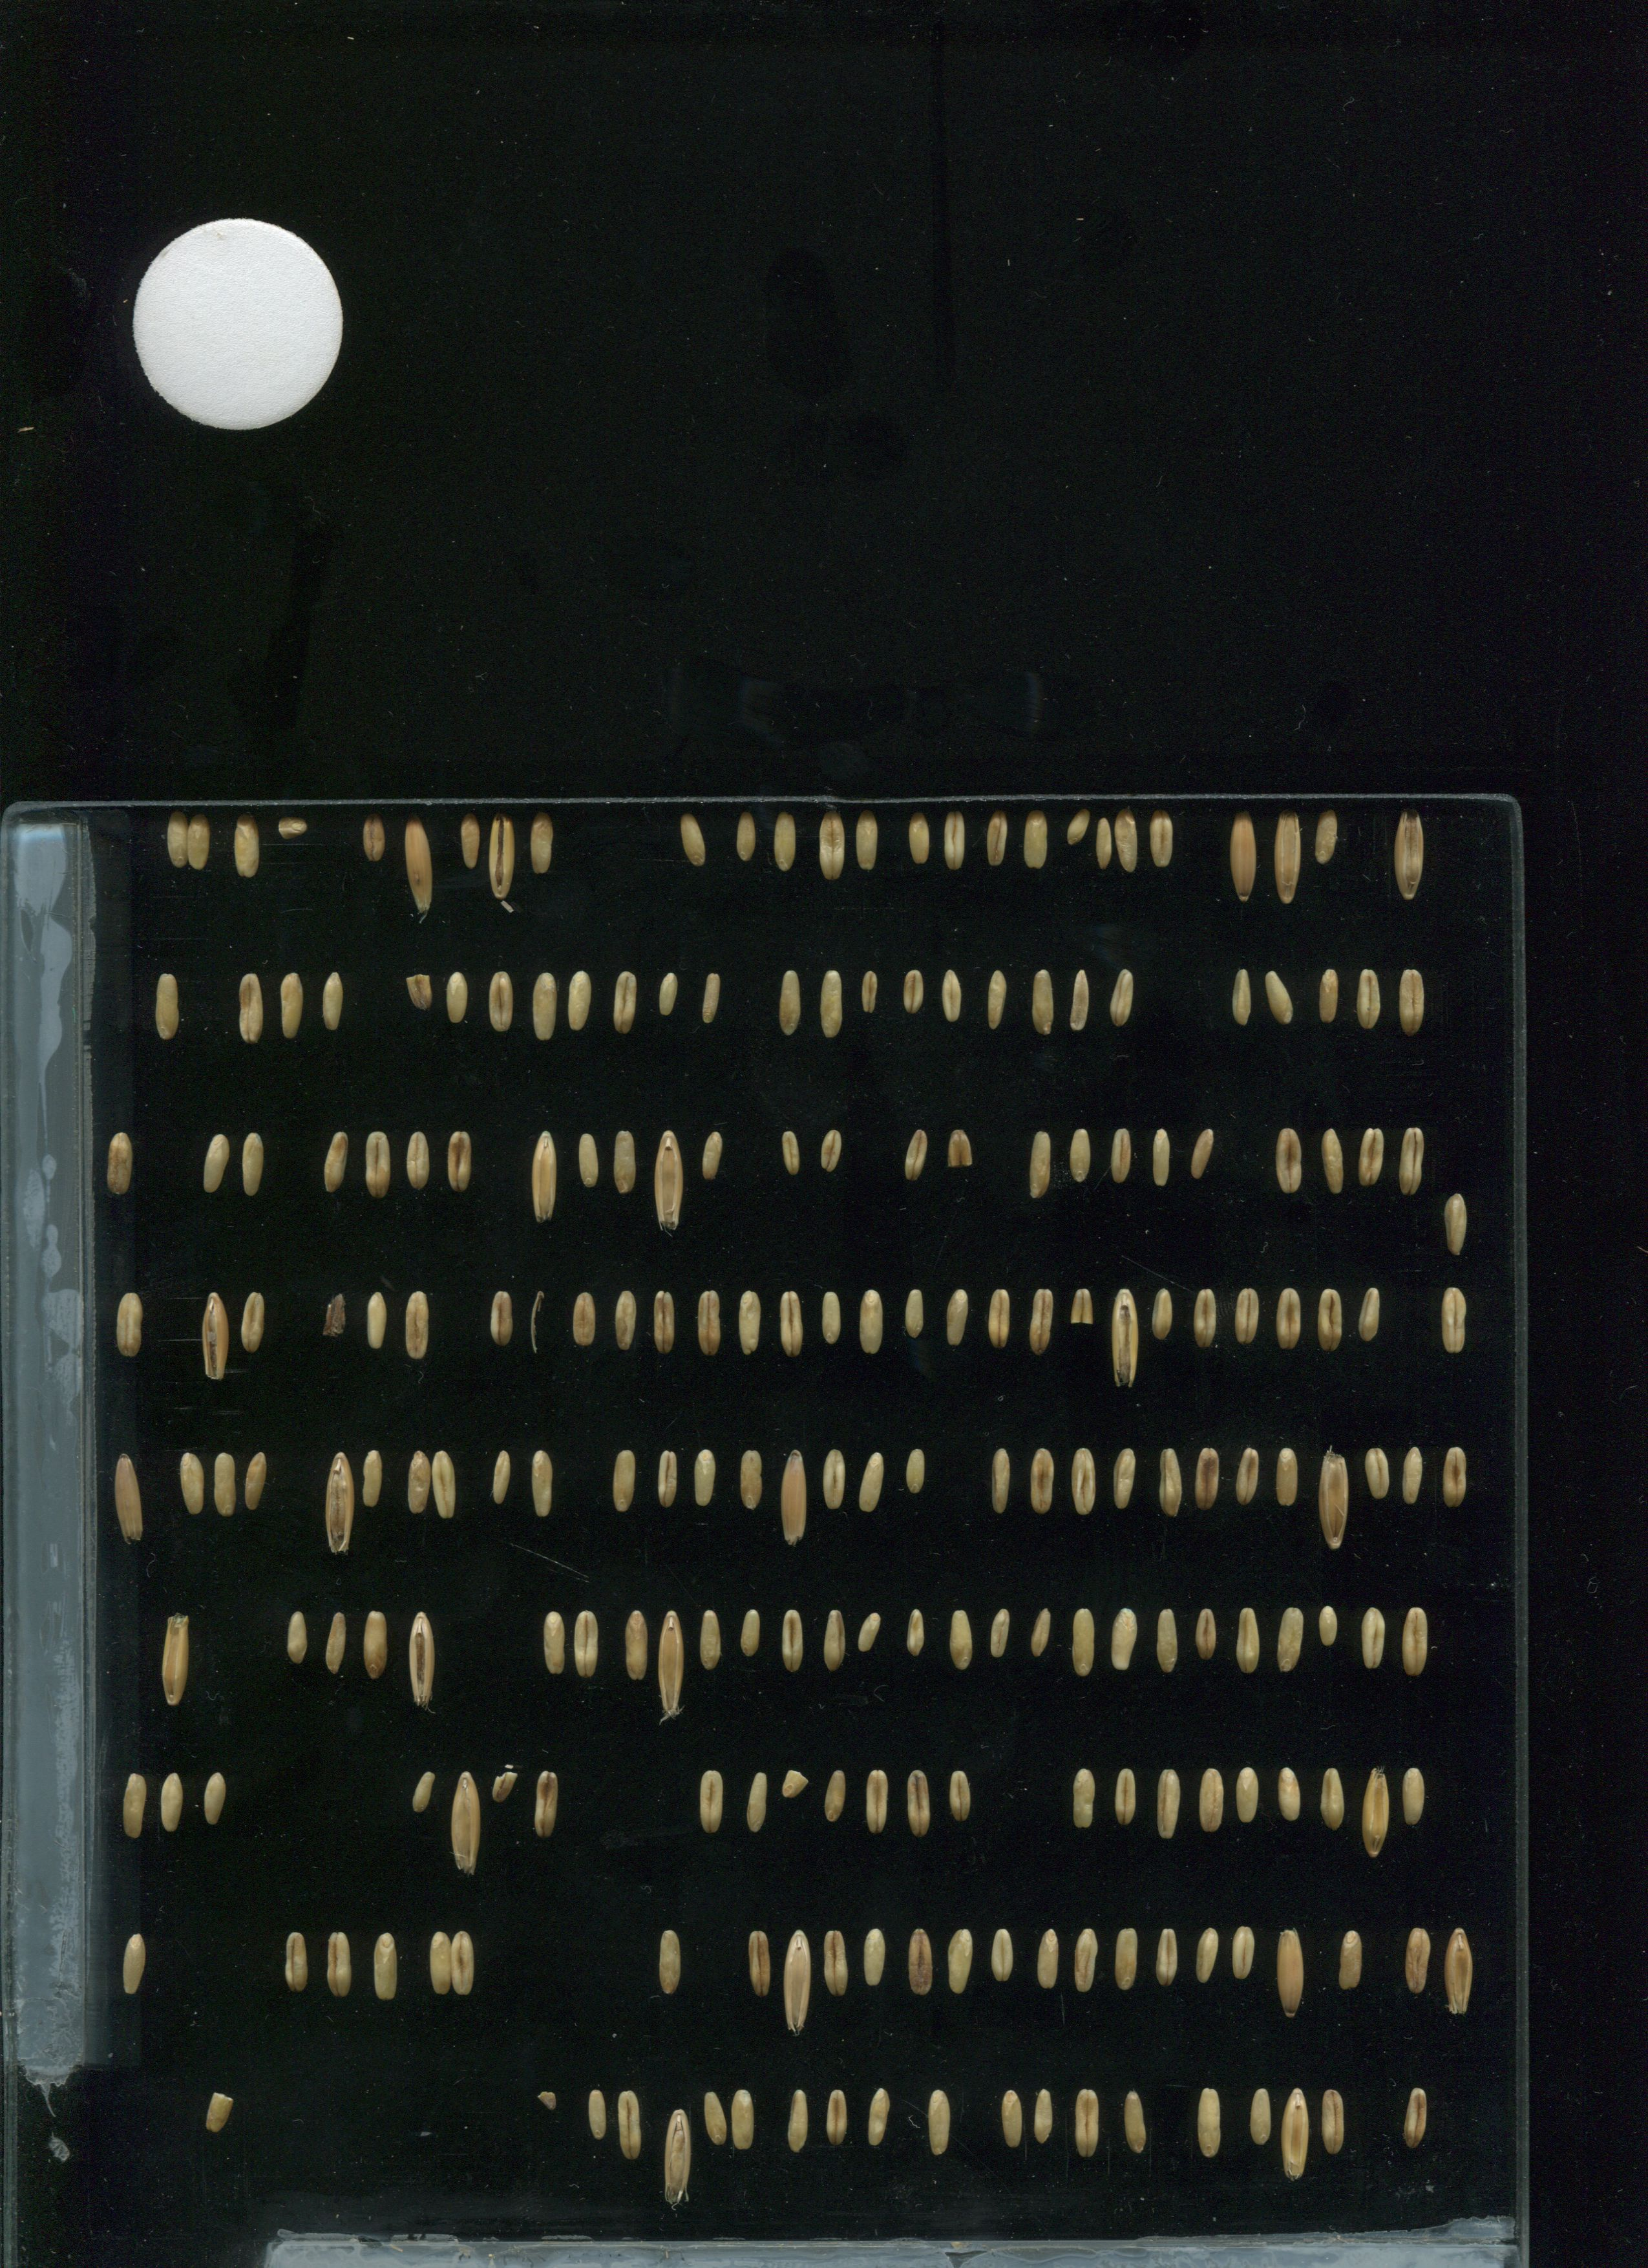BrokenGrain: (525, 1284, 556, 1359), (1067, 1280, 1100, 1333), (776, 1759, 810, 1812), (484, 1757, 518, 1810), (201, 2085, 234, 2138), (944, 1123, 977, 1176), (313, 1289, 347, 1340), (401, 970, 437, 1014), (273, 810, 308, 847), (532, 2080, 562, 2122)
NakedGrain: (1393, 965, 1431, 1041), (102, 1129, 139, 1203), (197, 1125, 234, 1199), (234, 1125, 271, 1199), (319, 1125, 356, 1199), (1021, 1127, 1058, 1201), (1269, 1127, 1306, 1201), (1315, 1123, 1352, 1197), (1437, 1284, 1474, 1358), (1313, 1284, 1350, 1358), (1271, 1284, 1308, 1358), (1227, 1282, 1264, 1356), (854, 1284, 891, 1358), (773, 1285, 810, 1359), (732, 1285, 769, 1359), (692, 1287, 729, 1361), (646, 1287, 683, 1361), (400, 1291, 437, 1365), (109, 1289, 146, 1363), (486, 1285, 523, 1359), (1394, 1440, 1431, 1514), (1361, 1439, 1398, 1513), (1229, 1440, 1266, 1514), (1190, 1442, 1227, 1516), (1151, 1446, 1188, 1520), (850, 1446, 887, 1520), (986, 1442, 1023, 1516), (606, 1442, 643, 1516), (523, 1447, 560, 1521), (426, 1446, 463, 1520), (403, 1446, 440, 1520), (356, 1444, 393, 1518), (275, 1604, 312, 1678), (317, 1604, 354, 1678), (357, 1608, 394, 1682), (533, 1606, 570, 1680), (567, 1606, 604, 1680), (618, 1608, 655, 1682), (775, 1604, 812, 1678), (813, 1602, 850, 1676), (1062, 1604, 1099, 1678), (1104, 1604, 1141, 1678), (1146, 1604, 1183, 1678), (1269, 1604, 1306, 1678), (1356, 1601, 1393, 1675), (1396, 1606, 1433, 1680), (1394, 1761, 1431, 1835), (1313, 1763, 1350, 1837), (1271, 1757, 1308, 1831), (1190, 1764, 1227, 1838), (1148, 1764, 1185, 1838), (1106, 1761, 1143, 1835), (900, 1766, 937, 1840), (856, 1764, 893, 1838), (819, 1763, 856, 1837), (694, 1768, 731, 1842), (525, 1768, 562, 1842), (197, 1759, 234, 1833), (155, 1763, 192, 1837), (116, 1925, 153, 1999), (276, 1926, 313, 2000), (319, 1925, 356, 1999), (366, 1926, 403, 2000), (650, 1925, 687, 1999), (741, 1926, 778, 2000), (817, 1928, 854, 2002), (856, 1926, 893, 2000), (901, 1926, 938, 2000), (940, 1925, 977, 1999), (1028, 1923, 1065, 1997), (1069, 1925, 1106, 1999), (1109, 1923, 1146, 1997), (1148, 1921, 1185, 1995), (1224, 1921, 1261, 1995), (1333, 1921, 1370, 1995), (1398, 1923, 1435, 1997), (1394, 2081, 1431, 2155), (1315, 2081, 1352, 2155), (1241, 2080, 1278, 2154), (1194, 2083, 1231, 2157), (1069, 2085, 1106, 2159), (919, 2085, 956, 2159), (857, 2078, 894, 2152), (359, 1129, 396, 1201), (1393, 1123, 1430, 1196), (1187, 1282, 1224, 1354), (692, 1608, 729, 1680), (1232, 1756, 1269, 1828), (1065, 1763, 1102, 1835), (114, 1768, 151, 1840), (986, 1923, 1023, 1995), (1183, 1921, 1220, 1993), (1118, 2083, 1155, 2155), (819, 2081, 856, 2154), (780, 2081, 817, 2154), (815, 806, 850, 882), (850, 805, 886, 880), (900, 801, 935, 877), (935, 801, 970, 877), (977, 801, 1012, 877), (1018, 799, 1053, 875), (1144, 799, 1180, 875), (1308, 799, 1343, 875), (769, 805, 805, 880), (729, 799, 764, 875), (676, 801, 711, 877), (526, 808, 562, 884), (451, 805, 486, 880), (151, 967, 187, 1042), (232, 970, 268, 1046), (315, 965, 350, 1041), (484, 967, 519, 1042), (525, 967, 560, 1042), (562, 965, 597, 1041), (606, 963, 641, 1039), (813, 965, 849, 1041), (1352, 1122, 1387, 1196), (944, 1602, 979, 1676), (1187, 1601, 1222, 1675), (1231, 1602, 1266, 1676), (944, 1761, 979, 1835), (739, 1766, 775, 1840), (1111, 799, 1144, 877), (231, 808, 264, 884), (273, 967, 306, 1042), (1109, 1444, 1143, 1516), (1269, 1444, 1303, 1516), (1067, 1446, 1100, 1518), (613, 2087, 644, 2161), (1026, 1446, 1058, 1518), (1437, 1442, 1468, 1514), (1438, 1190, 1470, 1263), (447, 1928, 479, 1999), (424, 1928, 456, 1999), (1030, 961, 1058, 1037), (581, 2081, 613, 2148), (1354, 965, 1384, 1035), (1028, 2083, 1058, 2154), (854, 961, 886, 1027), (898, 961, 930, 1027), (1262, 967, 1294, 1032), (1229, 967, 1261, 1032), (1310, 963, 1342, 1028), (1187, 1122, 1218, 1187), (1146, 1125, 1178, 1190), (1107, 1123, 1139, 1189), (813, 1120, 845, 1185), (776, 1118, 808, 1183), (701, 1125, 732, 1190), (572, 1130, 604, 1196), (442, 1129, 474, 1194), (403, 1129, 435, 1194), (1350, 1284, 1382, 1349), (942, 1284, 974, 1349), (984, 1287, 1016, 1352), (900, 1282, 931, 1347), (817, 1285, 849, 1351), (567, 1287, 599, 1352), (359, 1287, 391, 1352), (238, 1289, 269, 1354), (176, 1449, 208, 1514), (241, 1449, 273, 1514), (488, 1444, 519, 1509), (651, 1447, 683, 1513), (688, 1446, 720, 1511), (736, 1446, 768, 1511), (819, 1446, 850, 1511), (1144, 1284, 1178, 1345), (729, 2085, 759, 2154), (699, 2085, 729, 2154), (778, 965, 805, 1042), (440, 970, 472, 1034), (651, 963, 683, 1027), (695, 970, 727, 1034), (1104, 967, 1136, 1030), (1065, 1123, 1097, 1187), (900, 1125, 931, 1189), (185, 808, 215, 875), (998, 2083, 1026, 2154), (357, 806, 389, 868), (164, 808, 194, 873), (937, 963, 967, 1028), (611, 1285, 641, 1351), (1067, 967, 1095, 1034), (982, 963, 1009, 1032), (407, 1766, 437, 1823), (1062, 805, 1093, 852), (903, 1446, 930, 1502), (901, 1604, 928, 1660), (854, 1604, 880, 1660), (988, 1606, 1014, 1660), (739, 1604, 766, 1659), (1317, 1597, 1342, 1653), (1028, 1606, 1053, 1660), (1093, 812, 1115, 872)
WholeGrain: (398, 810, 444, 919), (486, 805, 519, 912), (1271, 805, 1305, 912), (650, 1129, 683, 1236), (528, 1125, 562, 1233), (197, 1284, 231, 1391), (324, 1453, 357, 1560), (109, 1442, 143, 1550), (1109, 1289, 1143, 1396), (158, 1609, 192, 1717), (653, 1609, 687, 1717), (1359, 1757, 1393, 1865), (447, 1770, 481, 1877), (784, 1930, 817, 2037), (1273, 1921, 1306, 2029), (658, 2102, 692, 2210), (1442, 1918, 1475, 2025), (1227, 805, 1259, 912), (1394, 803, 1426, 910), (1317, 1444, 1349, 1551), (775, 1446, 806, 1553), (403, 1609, 435, 1717), (1278, 2081, 1310, 2189)
